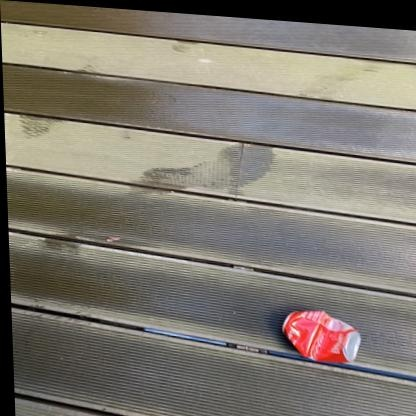trash: (282, 310, 360, 362)
